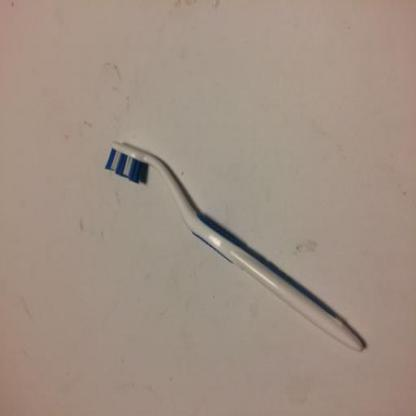trash: (105, 140, 365, 352)
